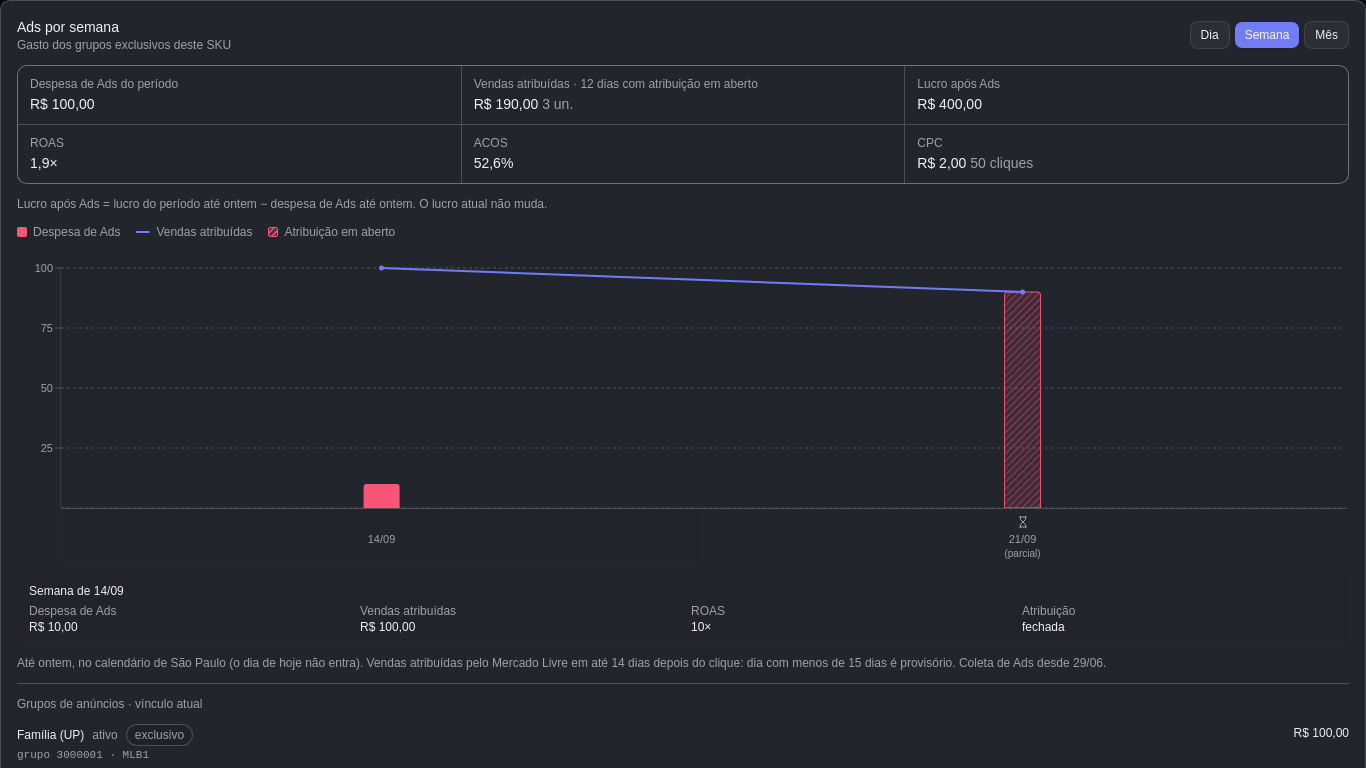
Test: PainelAds › trocar para "Dia" reinicia o foco no último dia
The image size is (1366, 768).
Click the button "Dia" at coordinates (1210, 35), box 1190,21 -> 1230,49
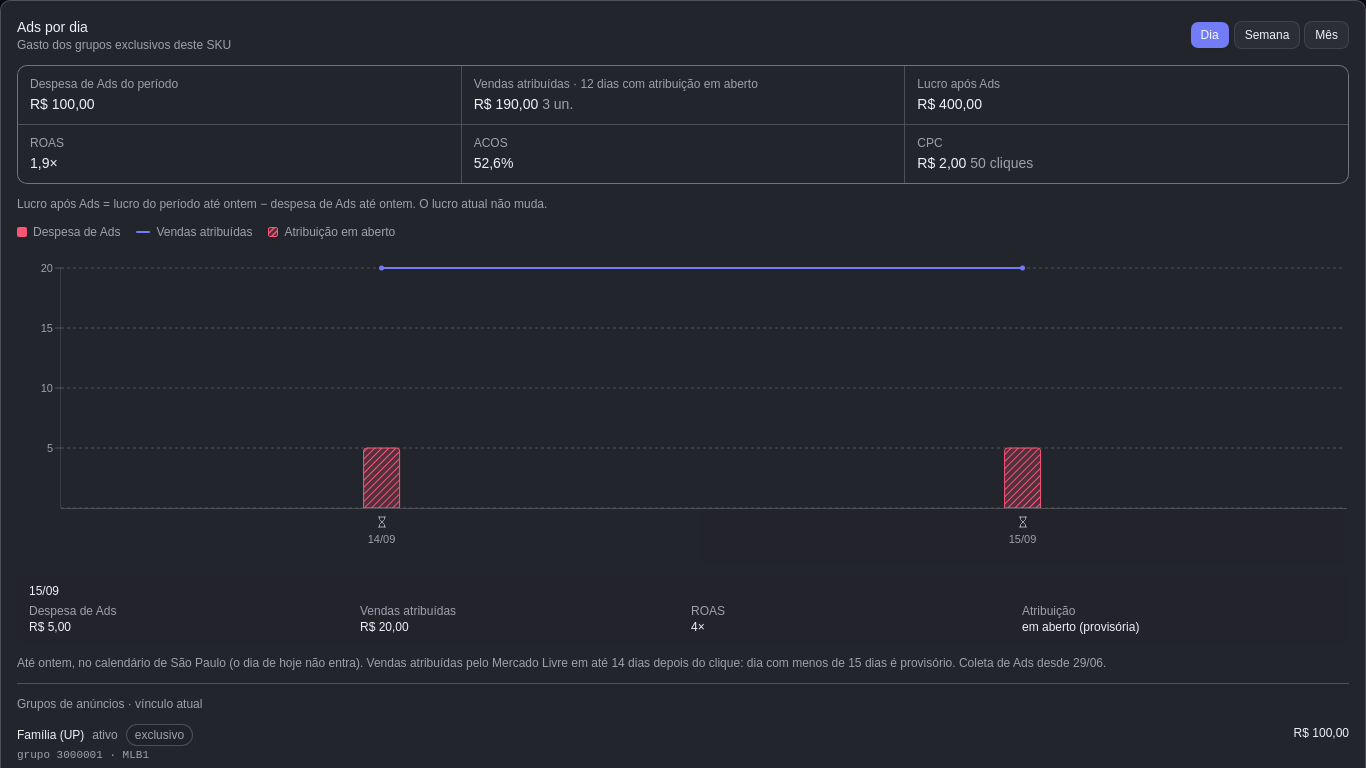
Now the 2nd text "15/09" is shown, box 29,584 -> 59,598
